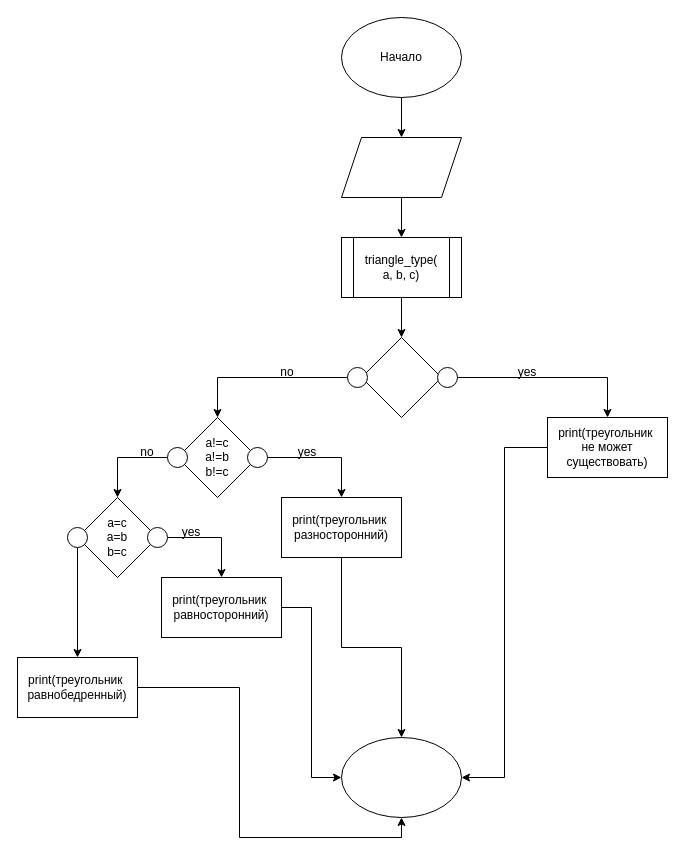
Some shapes in this 685 by 863 pixel diagram are drawn without their labels. The centre of each missing label's shape, as x and y in pixels:
"a+b<=c a+c<=b b+c<=a" belongs at pixel 401 377.
"a, b, c" belongs at pixel 401 167.
"Конец" belongs at pixel 401 777.
